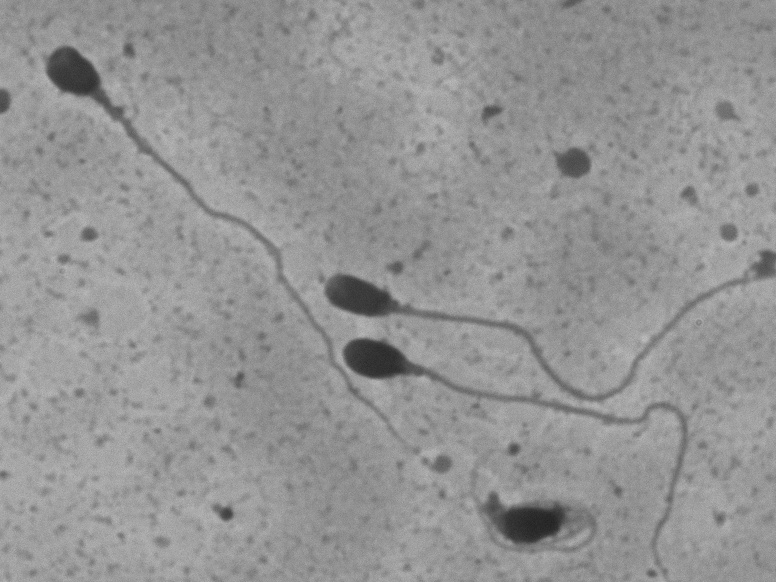Abnormal: (37, 35, 438, 477), (340, 332, 706, 575), (318, 265, 747, 408), (458, 436, 615, 569)
